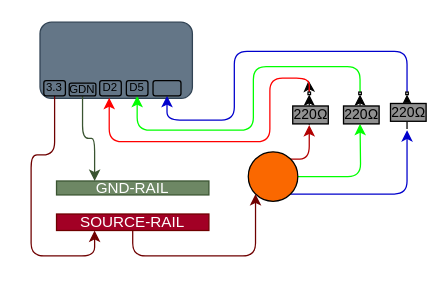
Some shapes in this 448 by 288 pixel diagram are drawn without their labels. Each missing label, with the box of its shape:
D21: (152, 79, 181, 96)
RGB-LED: (247, 150, 298, 201)
